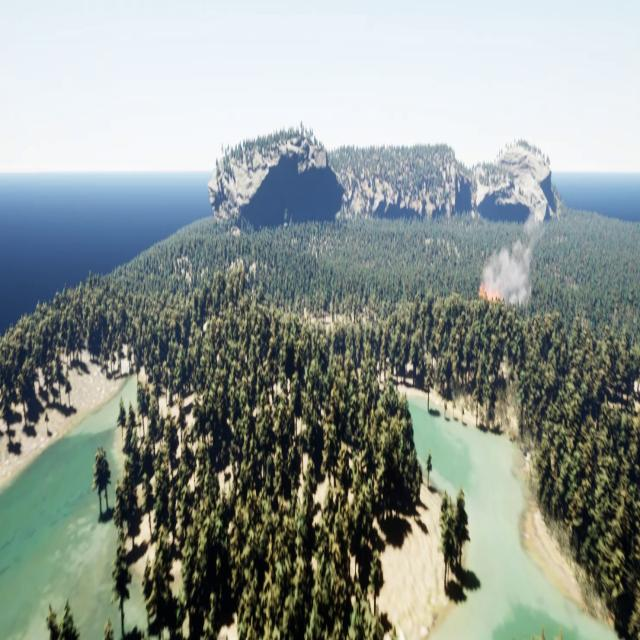fire: (478, 280, 499, 301)
smoke: (476, 236, 534, 308)
